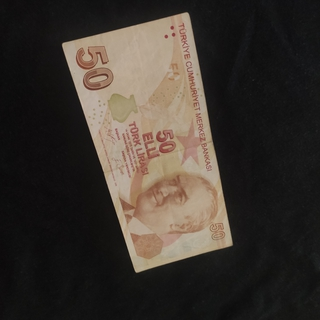50TLFront: (61, 11, 234, 273)
